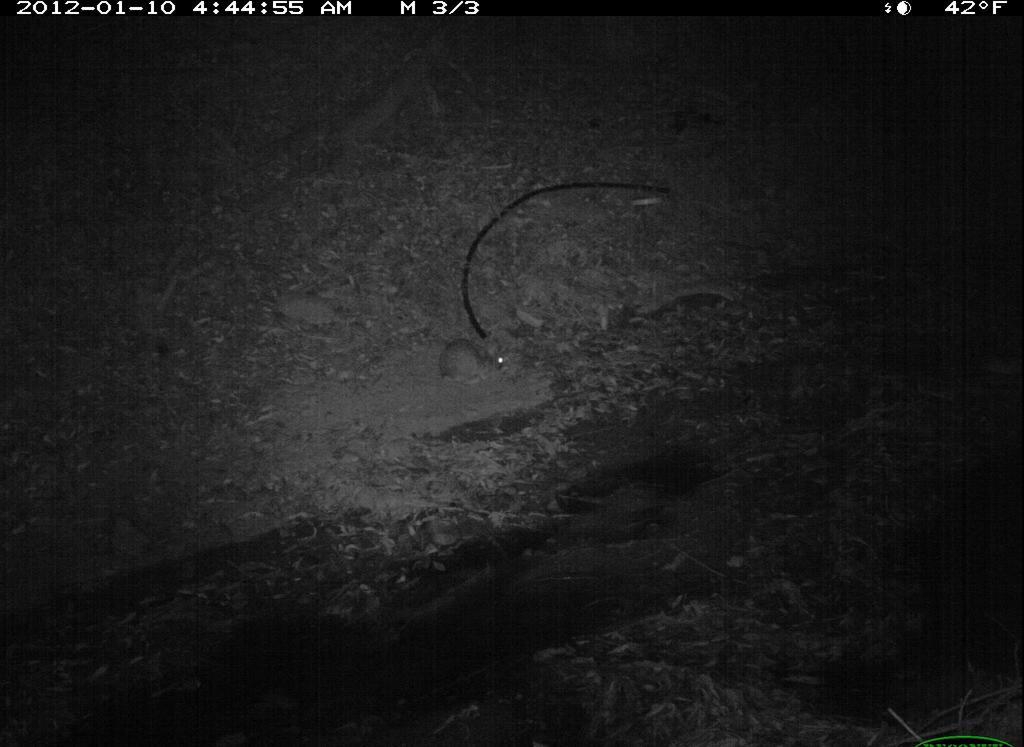rabbit: (432, 332, 525, 402)
